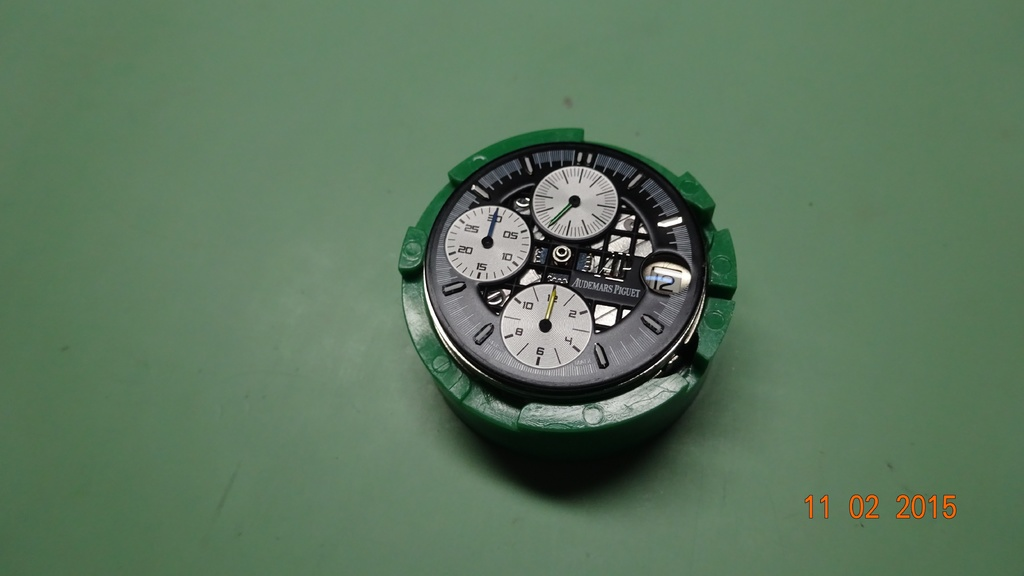watch: (398, 124, 733, 431)
